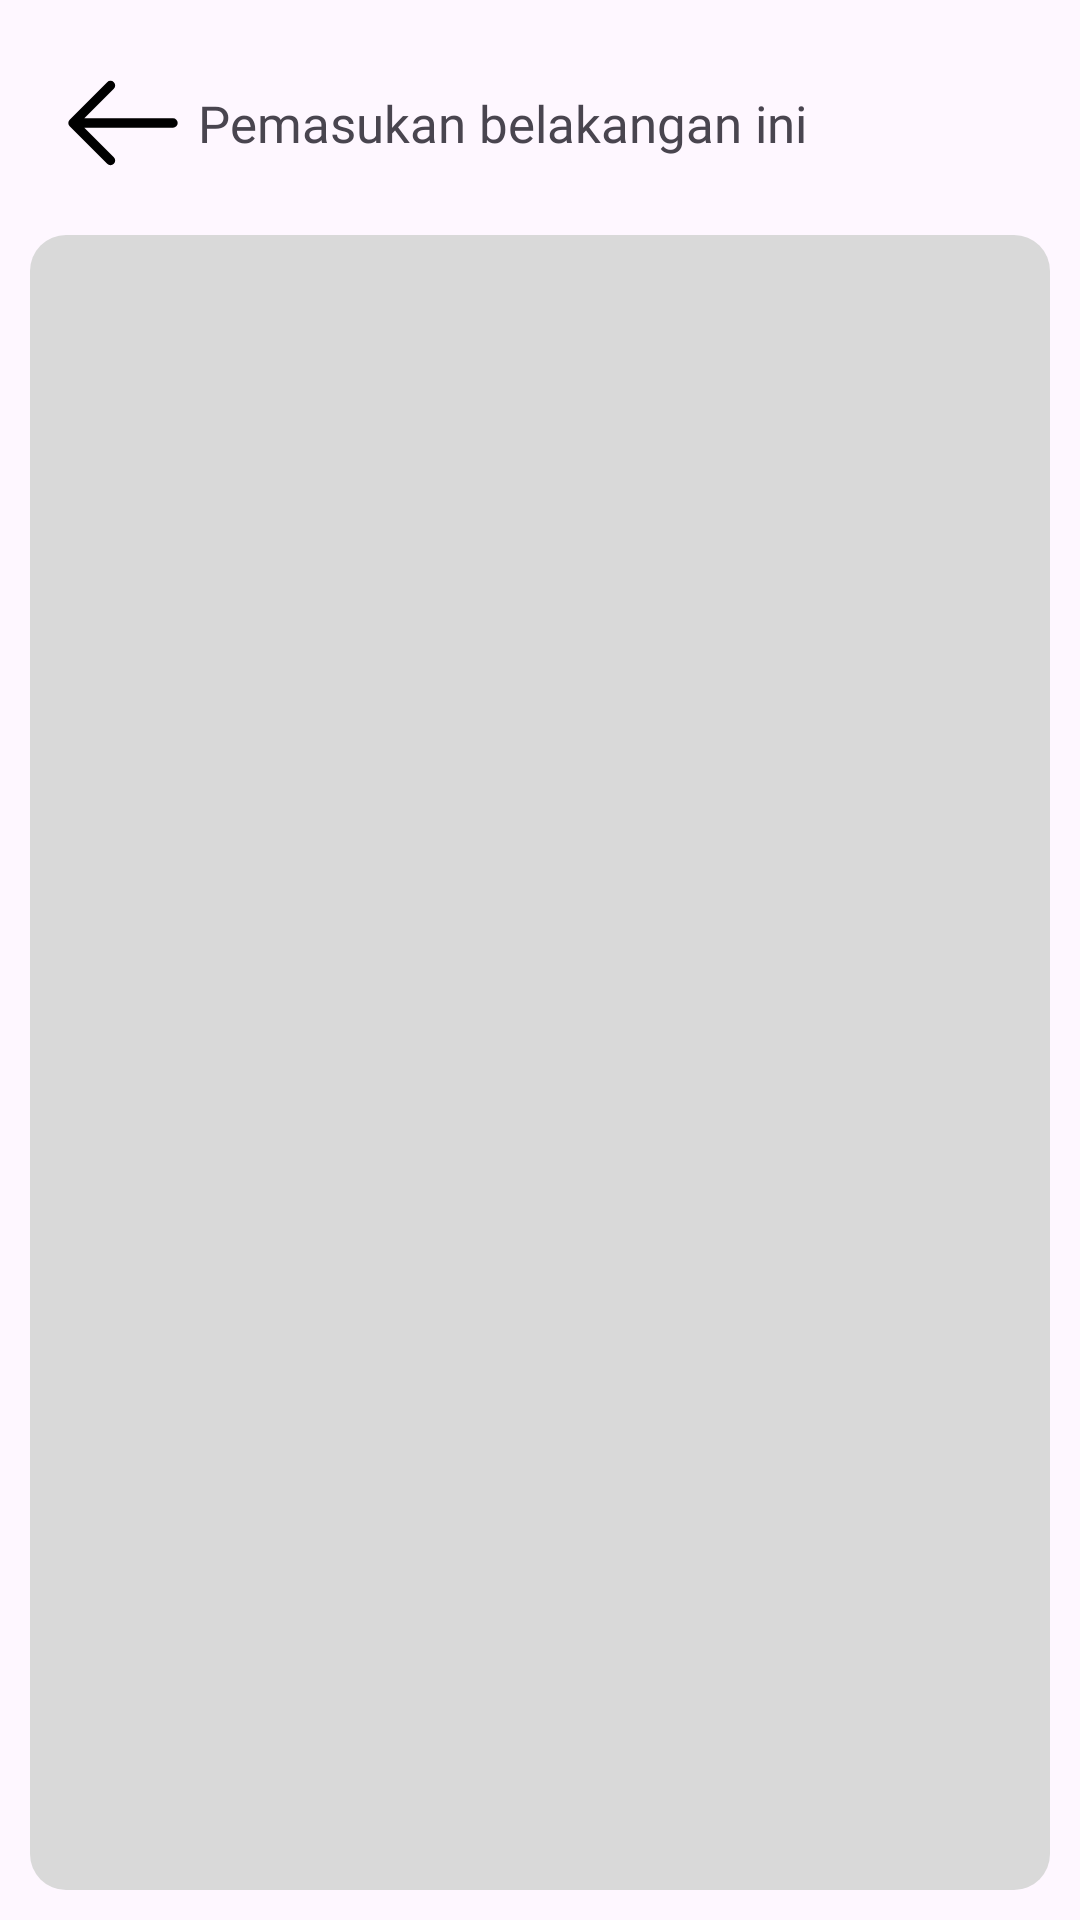

Where to tap for icons on this 1080px x 1920px app screen, as point (x, y):
back: point (123, 123)
